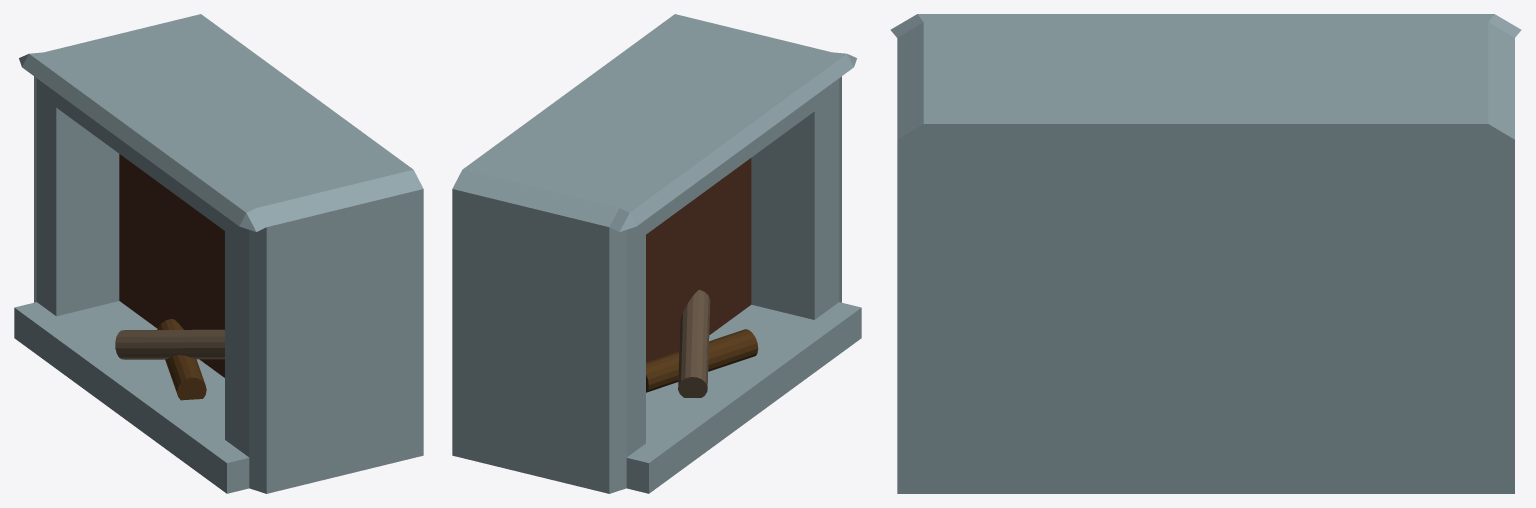
File: BirdHouse_Kamin.fbx
3 renders of one model, left to right at view 1: azimuth 30°, elevation 25°; view 2: azimuth 150°, elevation 25°; view 3: azimuth 270°, elevation 25°, orthographic. The views are drawn at different scales.
Visible parts, largest first — view 1: Kamin; view 2: Kamin; view 3: Kamin.
Boxes of the visible parts, x1,y1,x2,y2 form: Kamin: (14,14,423,493); Kamin: (452,14,861,493); Kamin: (890,14,1521,493).
Size of the model in its own units: 82.09 by 117 by 181.
